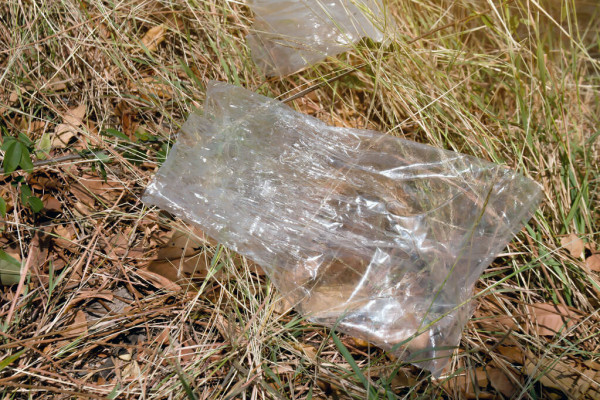plastic_bag: (141, 76, 545, 390)
